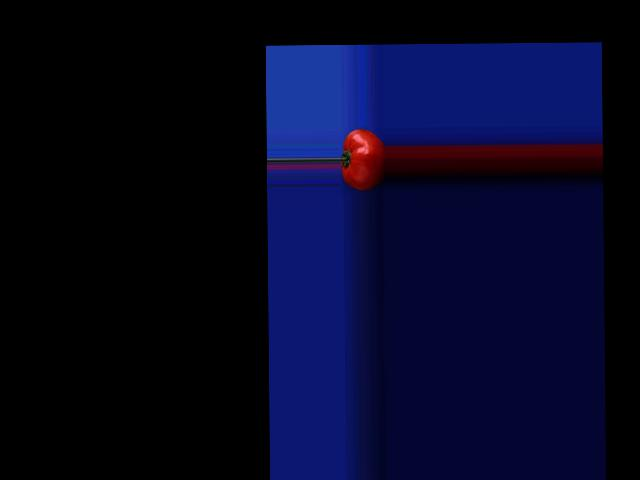tomato: (340, 129, 386, 191)
